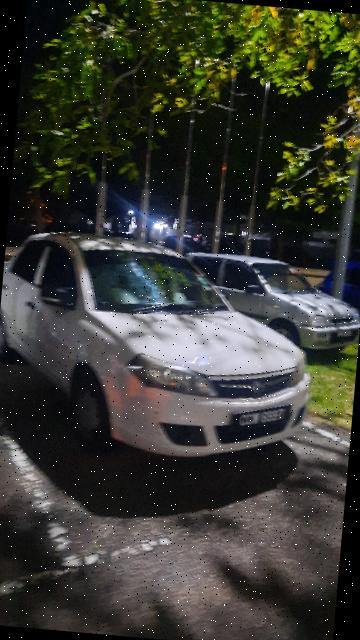License_Plate: (231, 399, 294, 434)
car: (1, 222, 323, 472), (176, 249, 360, 362)
